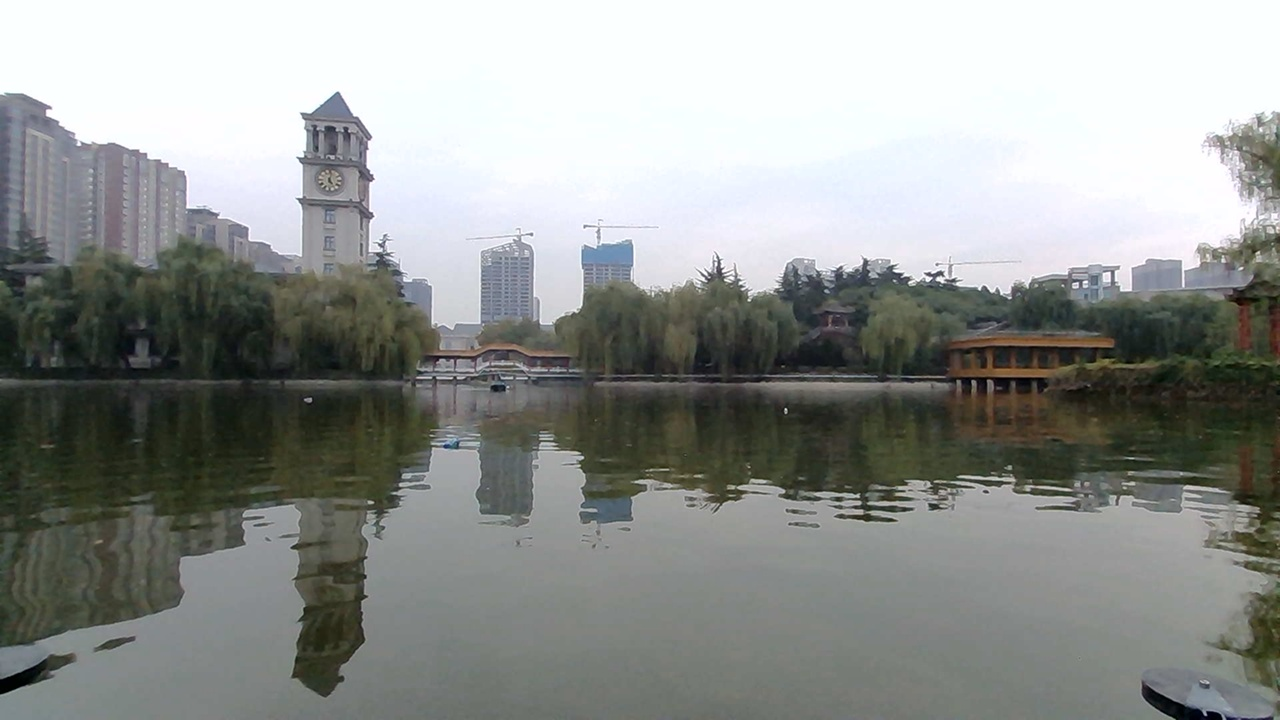bottle: (440, 426, 479, 450), (774, 396, 798, 420), (302, 388, 325, 406)
